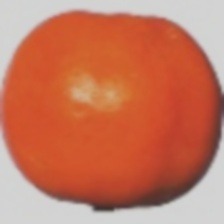tangerine: (41, 41, 181, 179)
